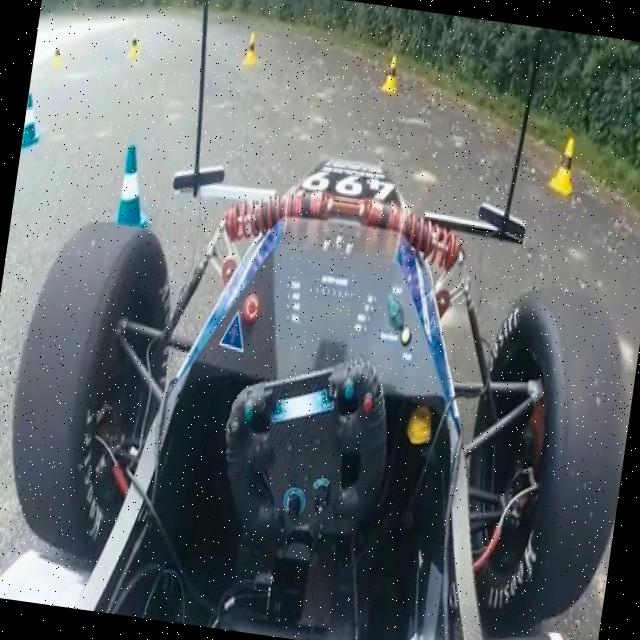blue_cone: (102, 138, 162, 237), (21, 82, 52, 153)
yellow_cone: (371, 51, 412, 115), (550, 122, 582, 198), (237, 22, 276, 70)
